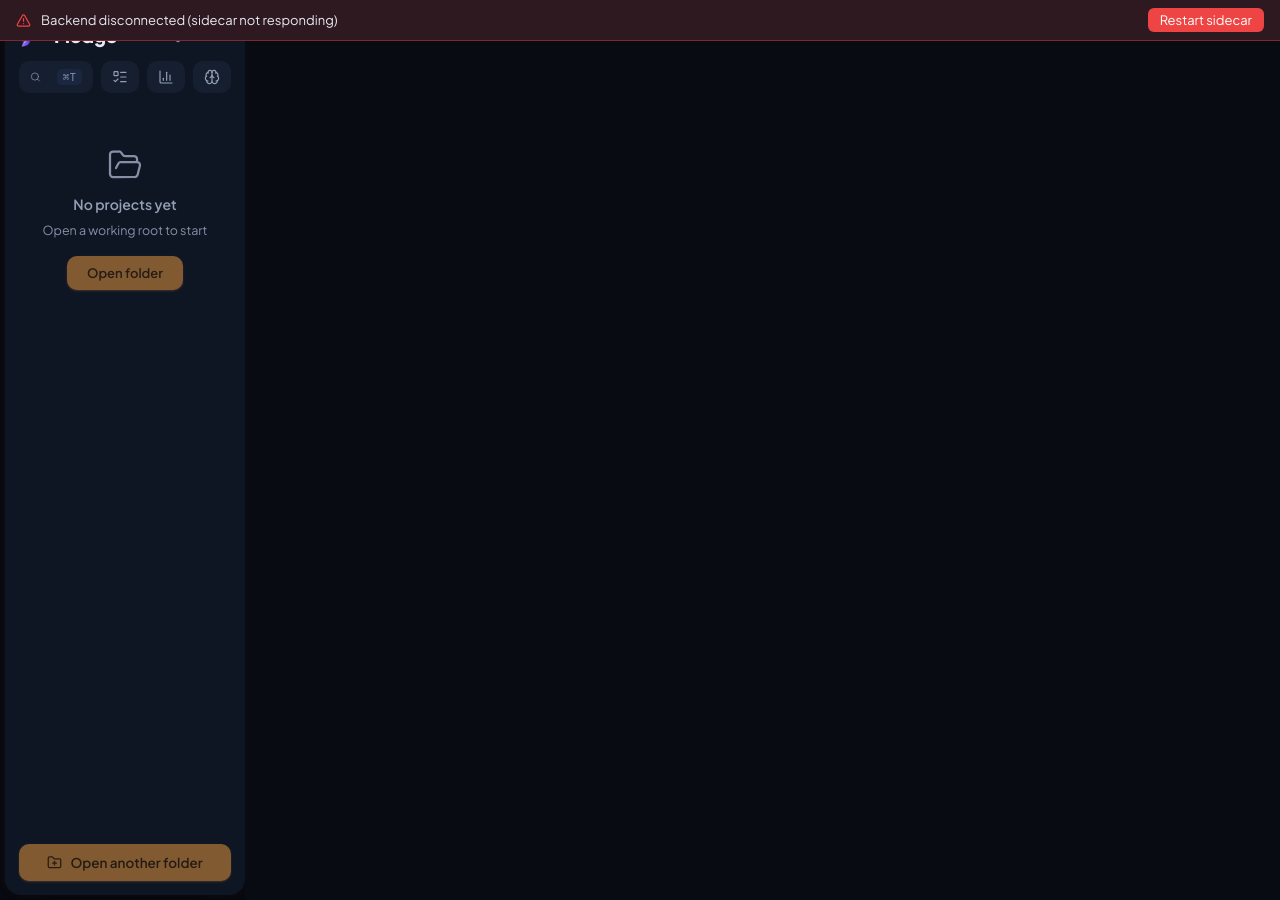
Test: App 殼層文字走 i18n › 英文介面：按下重啟後，橫幅與按鈕都顯示英文的重啟中
Click the button "Restart sidecar" at [1206, 20], box 1148,8 -> 1264,32
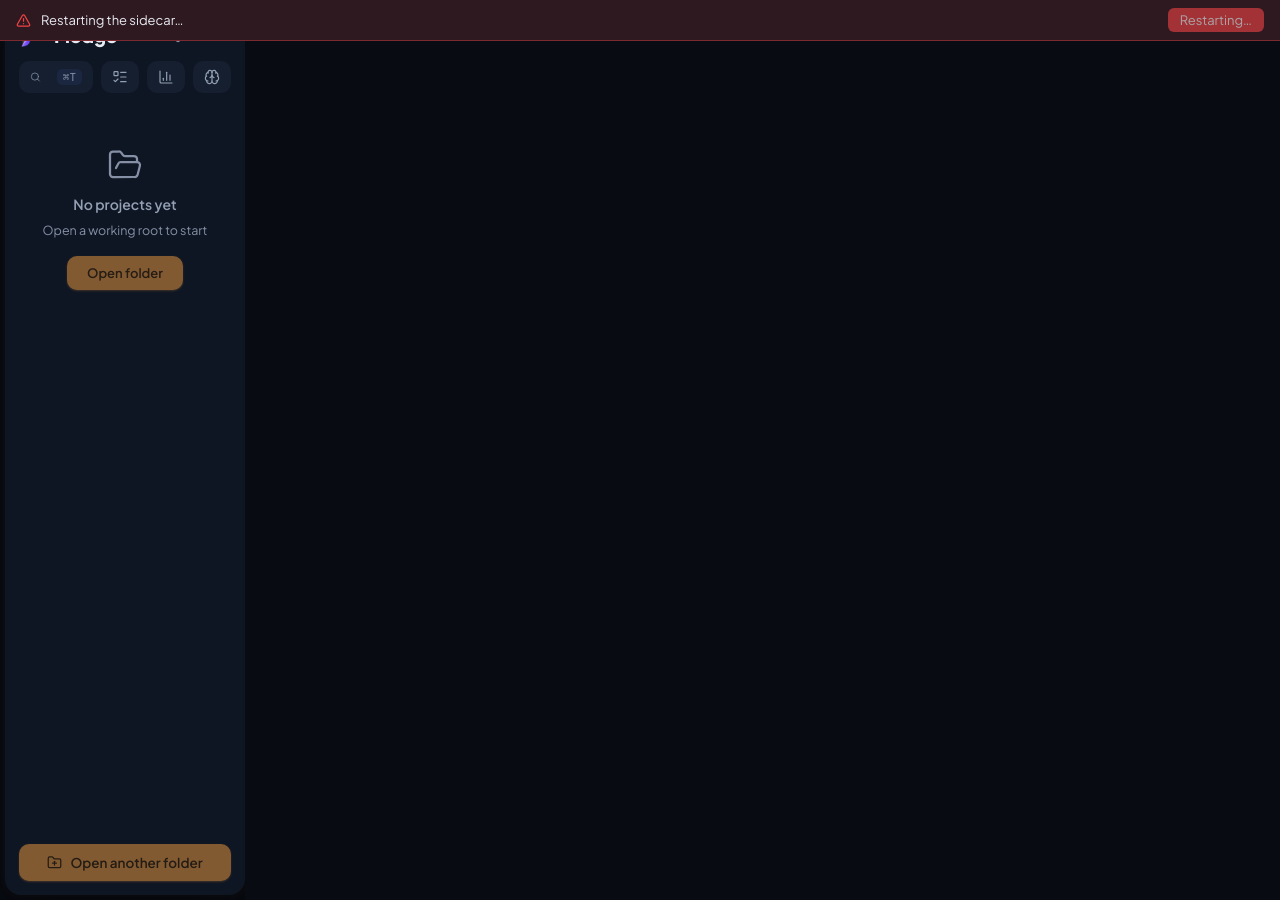
Expected: the text "Restarting the sidecar…" is shown, 41,12 -> 184,28
Expected: the button "Restarting…" is shown, 1168,8 -> 1264,32
